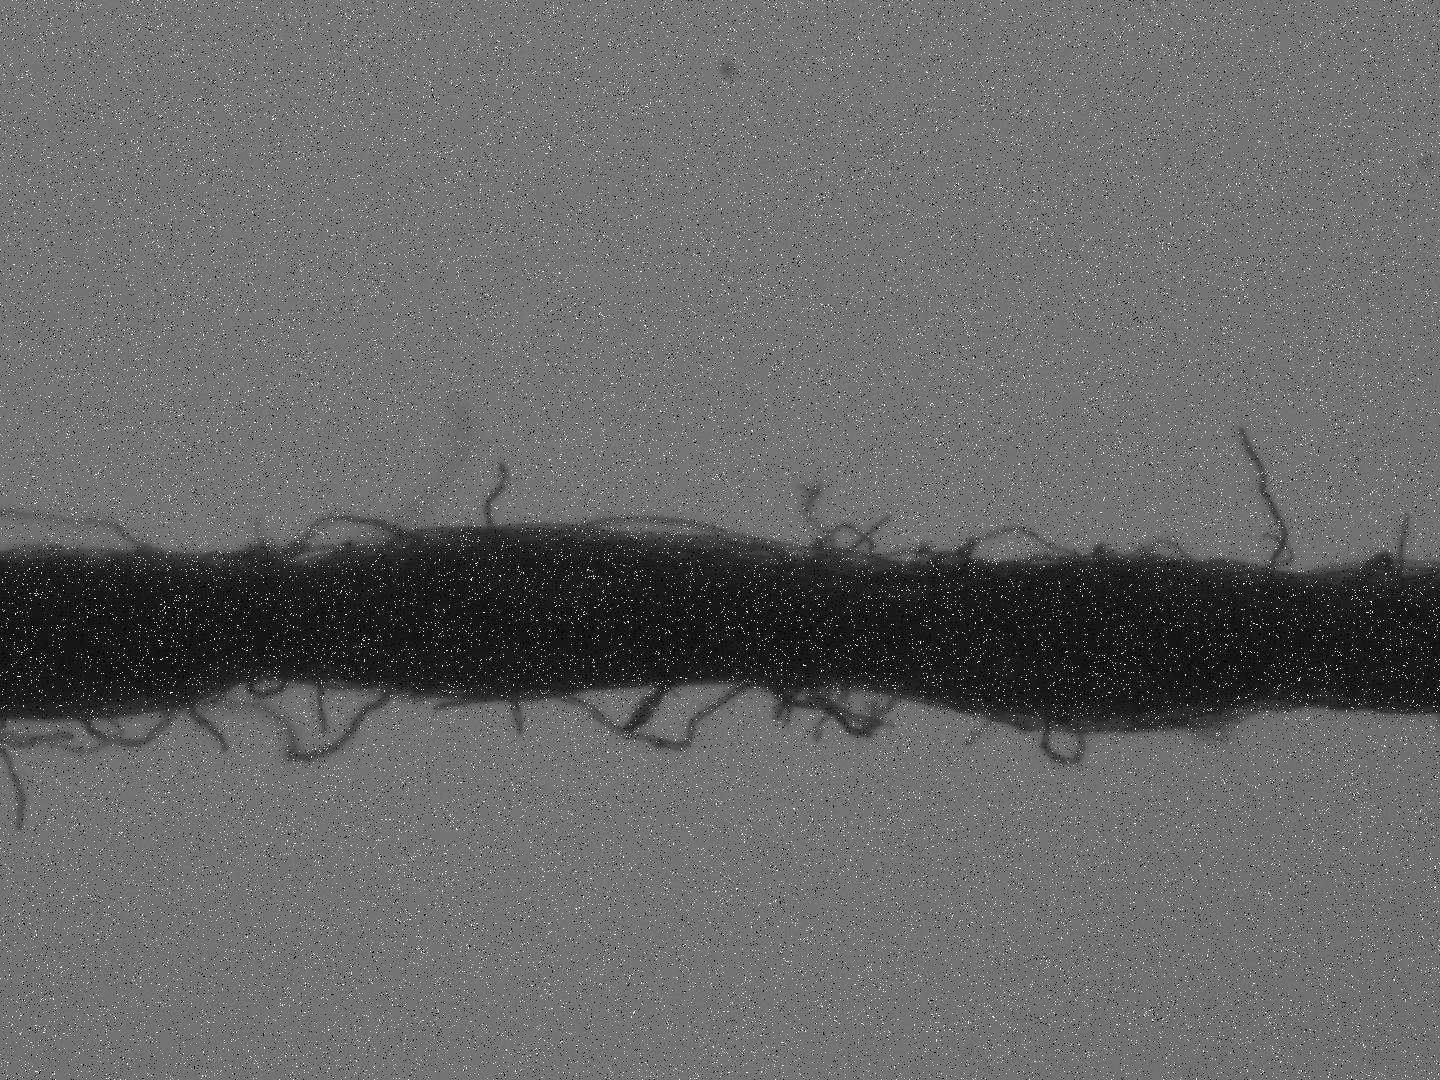loop_fiber: (543, 514, 893, 575), (556, 687, 752, 754), (270, 517, 420, 566), (943, 526, 1075, 560), (74, 710, 170, 750), (808, 528, 879, 567), (1127, 541, 1198, 575), (1040, 718, 1086, 767), (1341, 552, 1406, 587), (711, 541, 794, 566), (238, 677, 290, 702)
protruding_fiber: (1234, 427, 1287, 576), (480, 458, 511, 540), (183, 706, 232, 754), (628, 689, 664, 739), (314, 681, 329, 735), (509, 704, 527, 736)
